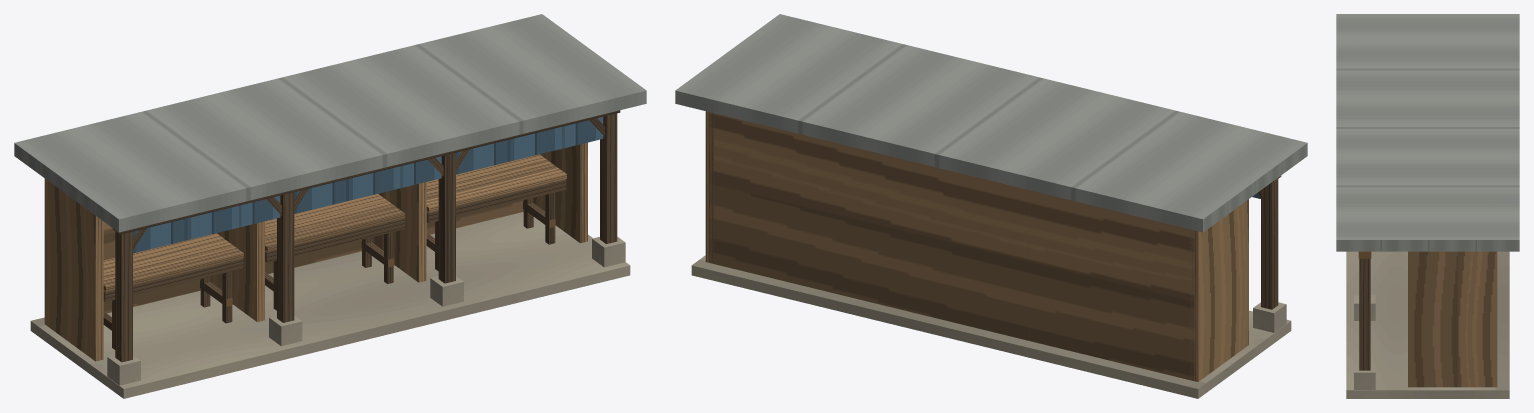
The picture shows the model from 3 angles, left to right: view 1: azimuth 30°, elevation 25°; view 2: azimuth 150°, elevation 25°; view 3: azimuth 270°, elevation 25°; orthographic projection. The views are drawn at different scales.
Visible parts, largest first — view 1: maiduguri; view 2: maiduguri; view 3: maiduguri.
Part boxes in pixels (x1,y1,x2,y2): maiduguri: (14,14,646,398); maiduguri: (675,14,1307,398); maiduguri: (1336,14,1519,398).
Size of the model in its own units: 6.7 by 2.26 by 2.3.
1 material, 1 textured.
